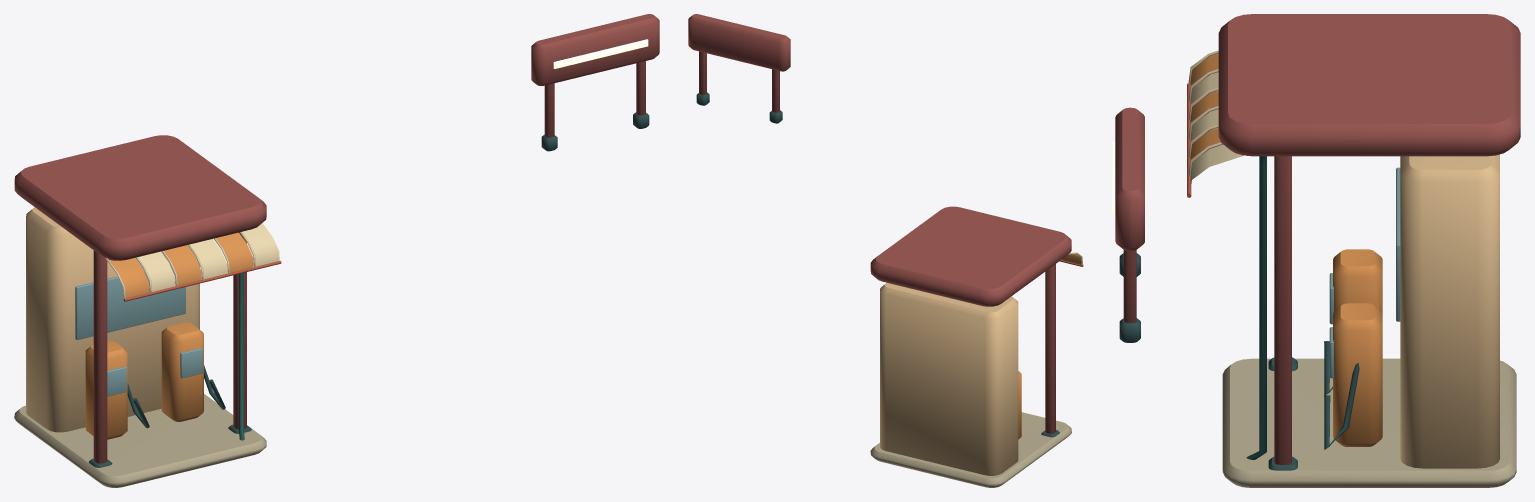
Rendered from route66_fuel_4.glb.
3 renders of one model, left to right at view 1: azimuth 30°, elevation 25°; view 2: azimuth 150°, elevation 25°; view 3: azimuth 270°, elevation 25°, orthographic. The views are drawn at different scales.
Visible parts, largest first — view 1: Route66Fuel4; view 2: Route66Fuel4; view 3: Route66Fuel4.
Boxes of the visible parts, x1,y1,x2,y2 form: Route66Fuel4: (14,14,659,487); Route66Fuel4: (688,14,1083,487); Route66Fuel4: (1112,14,1520,487).
Size of the model in its own units: 7.36 by 5.1 by 3.45.
